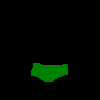mutande: (31, 63, 68, 82)
